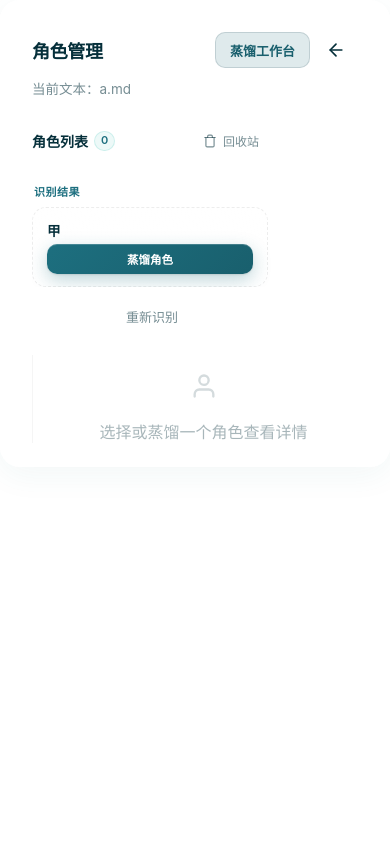
D24 ①b 第 3 步：重新识别 › 已有名单时点「重新识别」先弹确认框，不发请求
Click the button "重新识别" at (152,317), box [32,299,272,335]
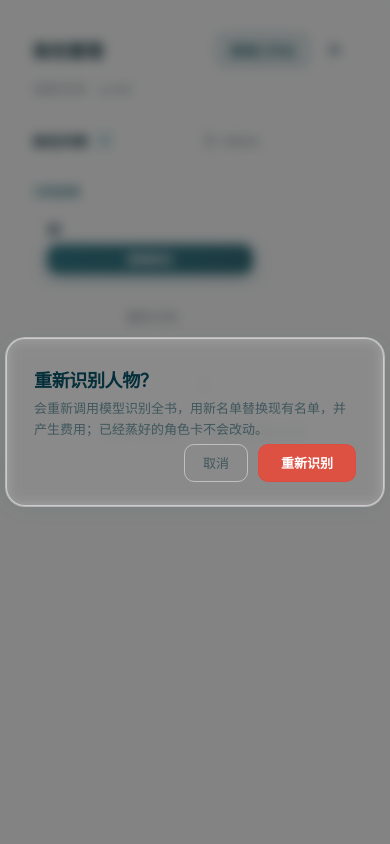
Expected: the text "重新识别人物？" is shown, [34,370,158,391]
